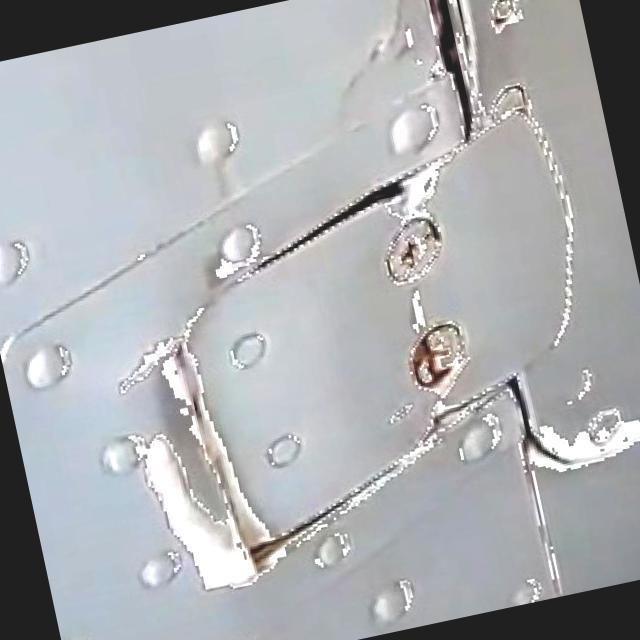crack: (386, 280, 434, 332)
